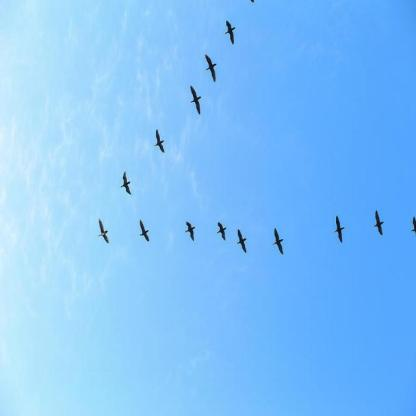bird: (217, 13, 243, 58), (183, 80, 204, 118), (270, 220, 289, 259), (150, 123, 168, 158), (200, 53, 220, 83), (235, 220, 250, 259), (94, 215, 110, 251), (118, 166, 135, 199), (138, 217, 156, 248), (332, 214, 348, 247), (215, 217, 230, 247), (181, 217, 198, 241), (374, 206, 387, 237)
